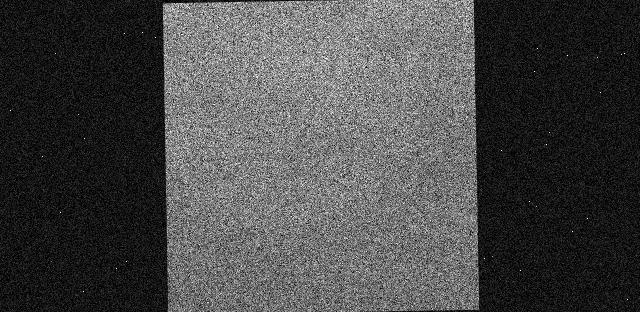oil_spot: (414, 0, 473, 5)
